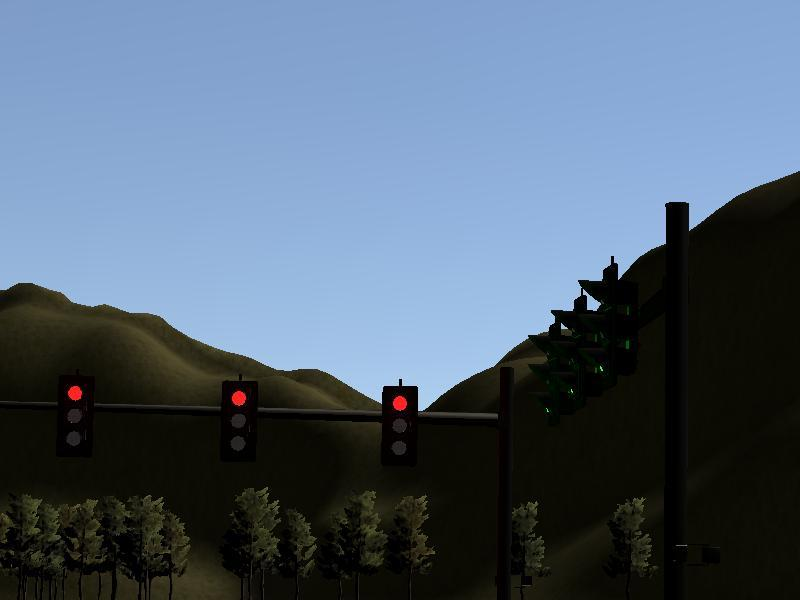Red: (57, 375, 94, 457), (381, 385, 418, 467), (220, 381, 257, 463)
